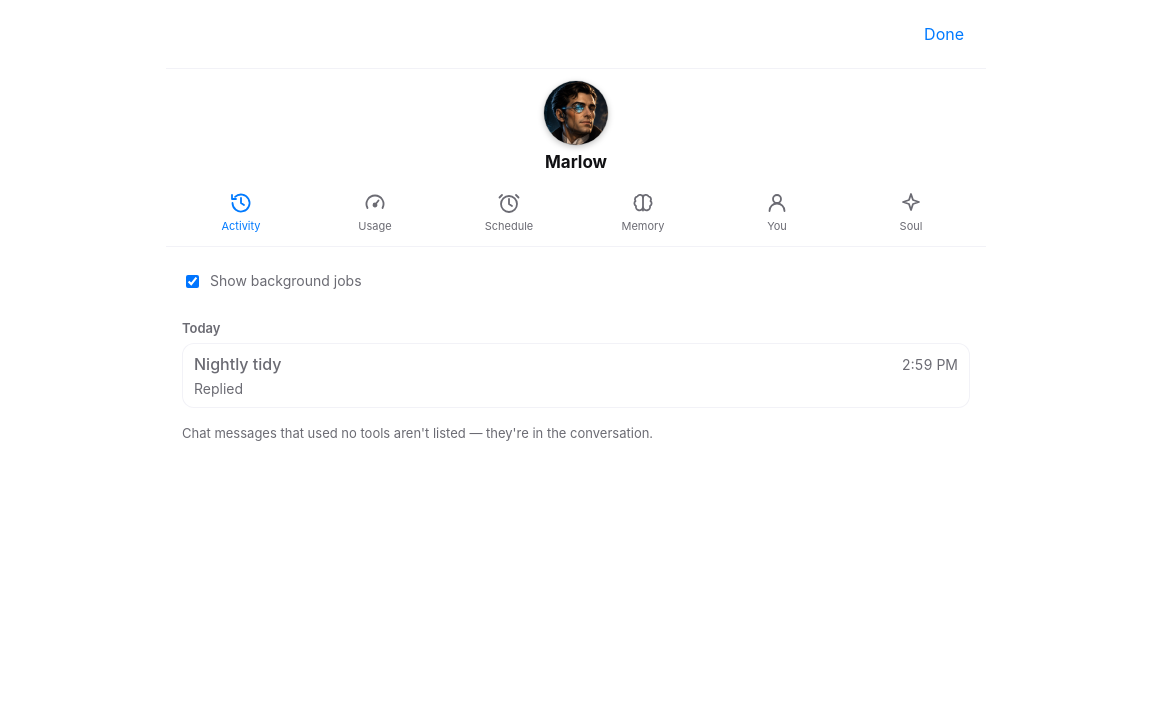
Test: background jobs › say so when what the job said can't be loaded
Click the button "Nightly tidy 2:59 PM Replied" at (238, 364), box [182,343,970,408]
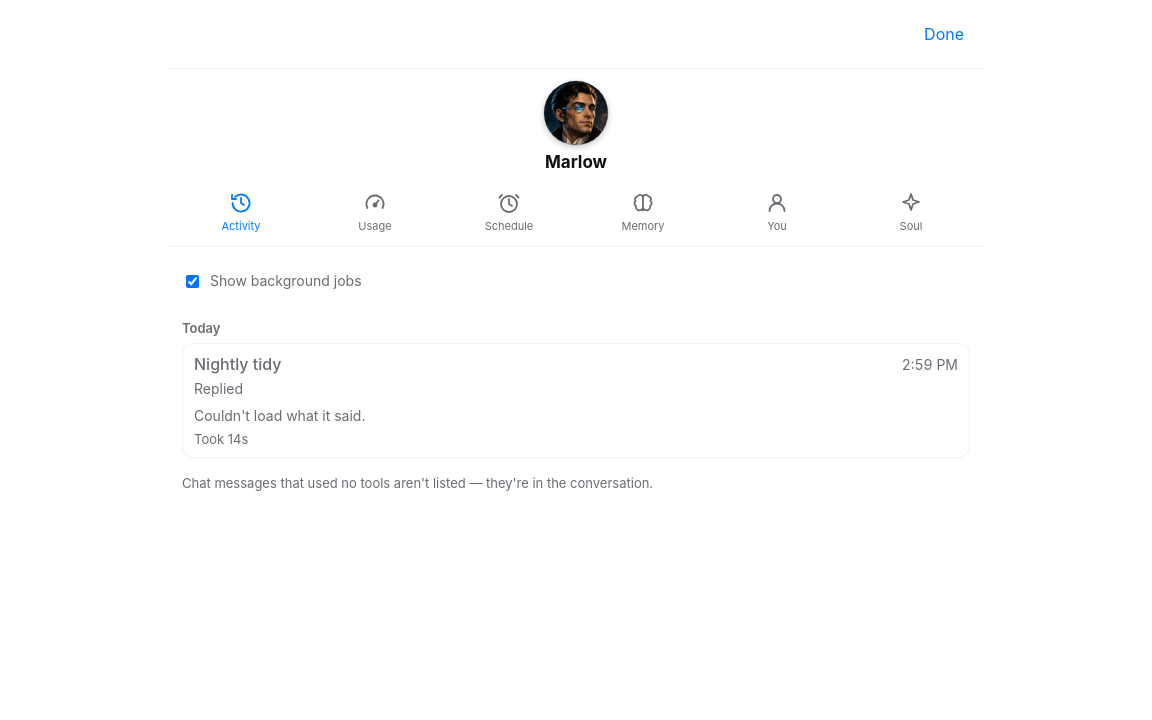
Check: the text "Couldn't load what it said." is shown, box [194,407,365,424]
